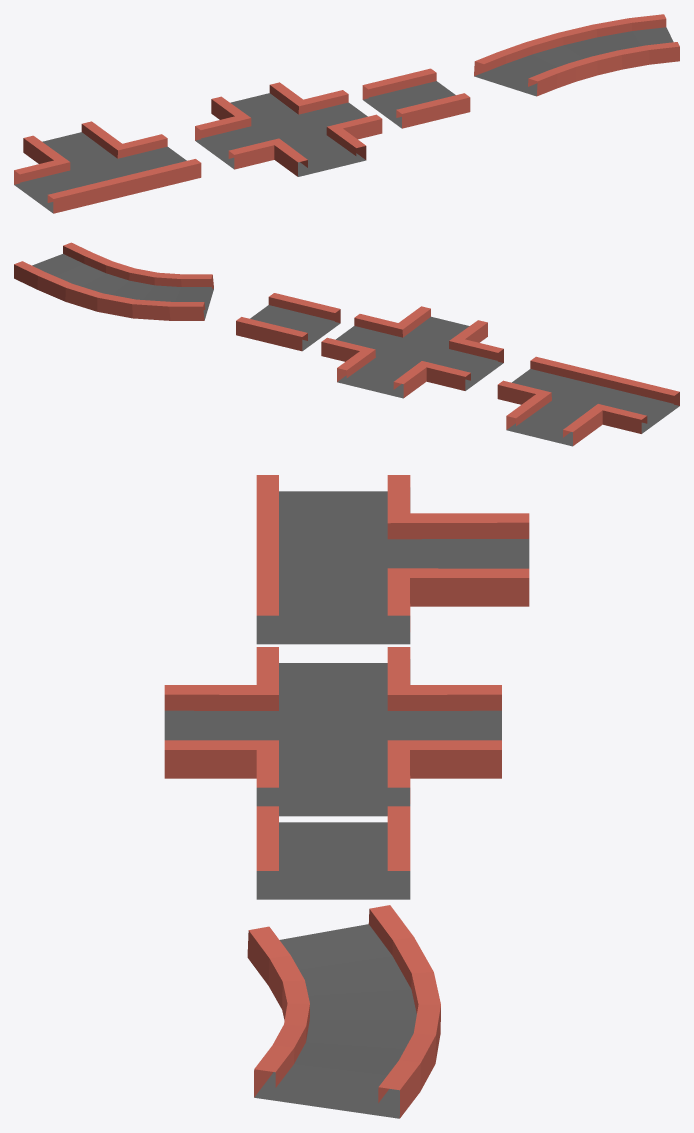
Rendered from Modulos_Camino.fbx.
3 views of the same model, one above another, from view 1: azimuth 30°, elevation 25°; view 2: azimuth 150°, elevation 25°; view 3: azimuth 270°, elevation 25° (orthographic). The views are drawn at different scales.
Parts seen in each view (by area): view 1: Modulo - X, Modulo - T, Modulo -Curvo, Modulo - Recto; view 2: Modulo - X, Modulo - T, Modulo -Curvo, Modulo - Recto; view 3: Modulo - X, Modulo - T, Modulo -Curvo, Modulo - Recto.
Part boxes in pixels (<box>): Modulo - X: <box>195,82,382,176</box>; Modulo - T: <box>14,121,201,213</box>; Modulo -Curvo: <box>474,14,679,96</box>; Modulo - Recto: <box>362,68,470,128</box>; Modulo - X: <box>321,306,503,398</box>; Modulo - T: <box>497,356,679,446</box>; Modulo -Curvo: <box>14,242,213,320</box>; Modulo - Recto: <box>236,293,340,351</box>; Modulo - X: <box>164,647,501,816</box>; Modulo - T: <box>256,475,529,644</box>; Modulo -Curvo: <box>247,905,440,1118</box>; Modulo - Recto: <box>256,806,410,899</box>.
Bounding box in the file's own units: 1895 × 53.99 × 475.
